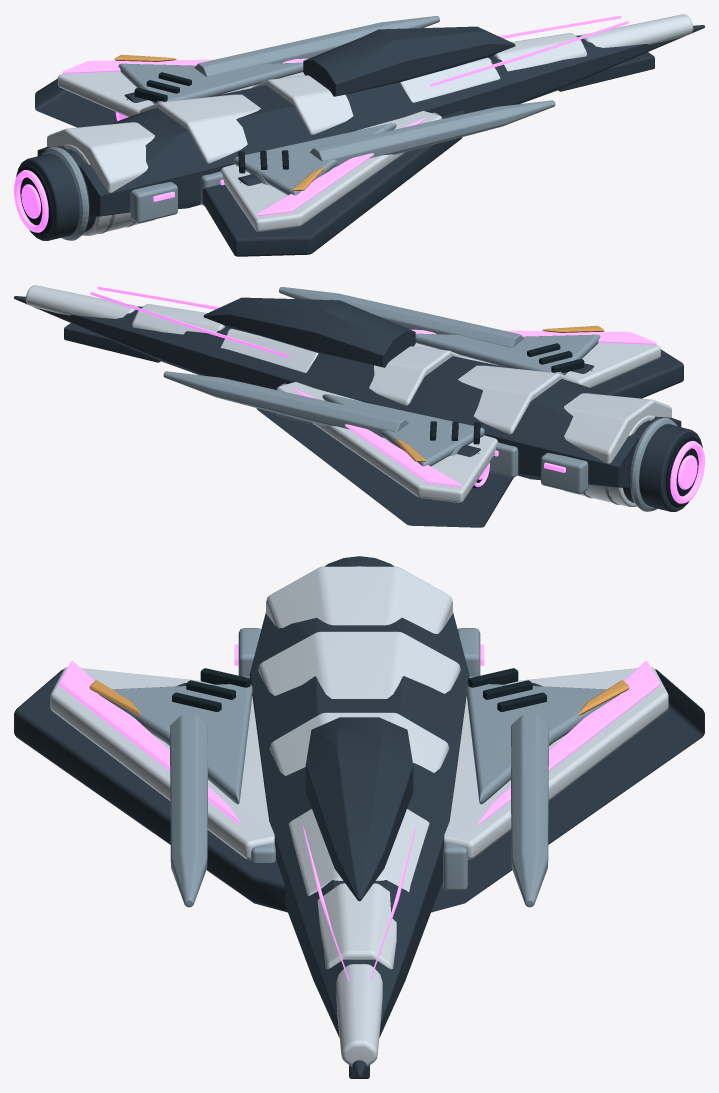
Rendered from ship-02.glb.
The picture shows the model from 3 angles, top to bottom: view 1: azimuth 30°, elevation 25°; view 2: azimuth 150°, elevation 25°; view 3: azimuth 270°, elevation 25°; orthographic projection. The views are drawn at different scales.
Visible parts, largest first — view 1: Graphite frame, Ceramic titanium, Machined silver, Ion violet, Carbon insets, Copper contacts; view 2: Graphite frame, Ceramic titanium, Machined silver, Ion violet, Carbon insets, Copper contacts; view 3: Graphite frame, Ceramic titanium, Machined silver, Ion violet, Carbon insets, Copper contacts.
Boxes of the visible parts, box(x1,y1,x2,y2) form: Graphite frame: box(16, 25, 704, 256); Ceramic titanium: box(47, 14, 693, 235); Machined silver: box(41, 16, 555, 240); Ion violet: box(14, 15, 628, 232); Carbon insets: box(17, 72, 288, 235); Copper contacts: box(114, 54, 324, 190); Graphite frame: box(14, 296, 702, 527); Ceramic titanium: box(25, 285, 671, 506); Machined silver: box(163, 287, 677, 511); Ion violet: box(90, 286, 704, 503); Carbon insets: box(430, 343, 701, 506); Copper contacts: box(394, 325, 604, 461); Graphite frame: box(14, 556, 704, 1078); Ceramic titanium: box(50, 566, 668, 1066); Machined silver: box(99, 566, 619, 907); Ion violet: box(59, 644, 659, 981); Carbon insets: box(172, 668, 546, 711); Copper contacts: box(89, 680, 629, 715).
Bounding box in the file's own units: 5.81 × 1.02 × 3.49.
